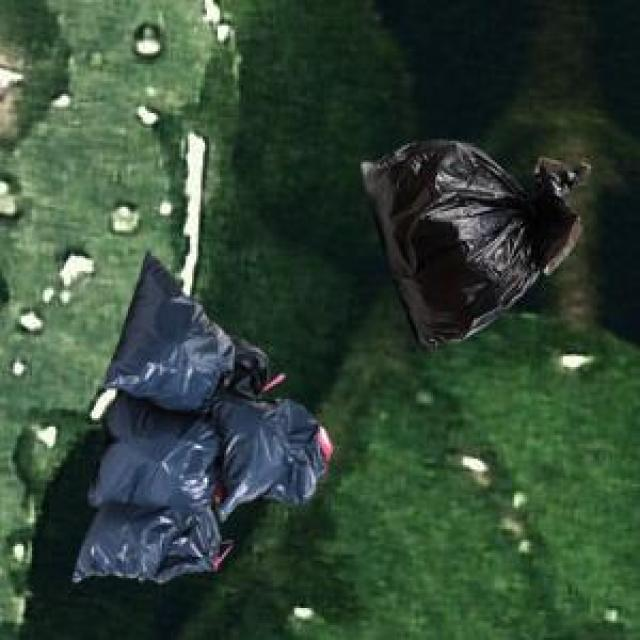Trashbag: (353, 123, 590, 364), (99, 248, 239, 411), (82, 393, 226, 513), (209, 394, 332, 522), (69, 497, 229, 587)
